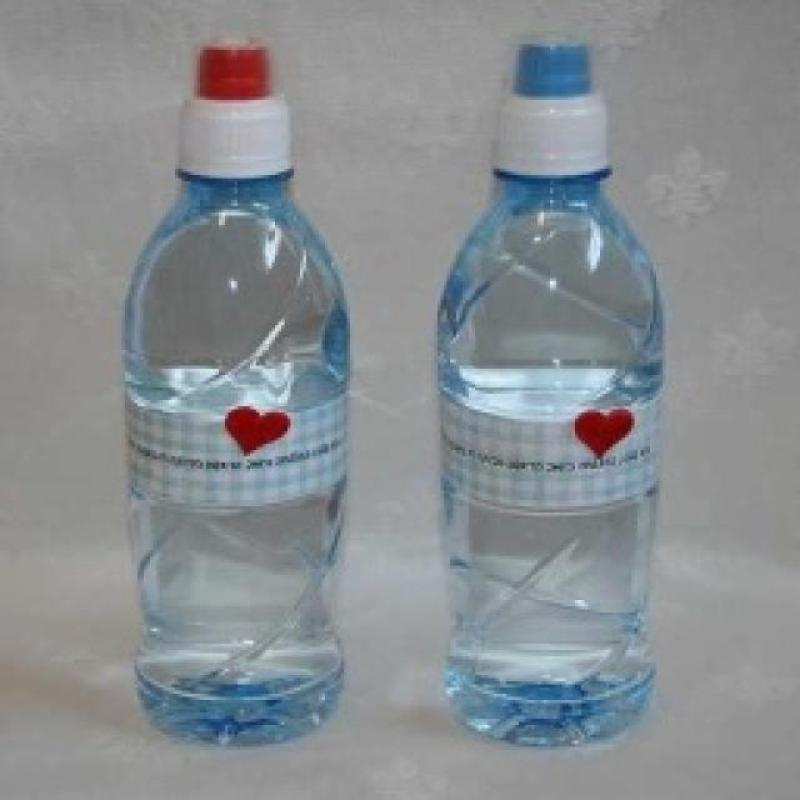botella: (434, 40, 668, 744), (120, 45, 349, 740)
